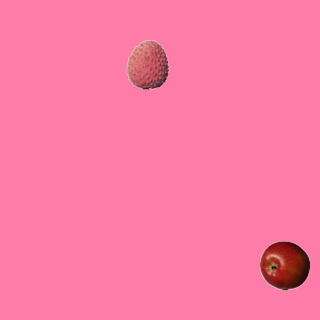Apple Braeburn: (259, 240, 309, 290)
Lychee: (122, 39, 172, 89)
